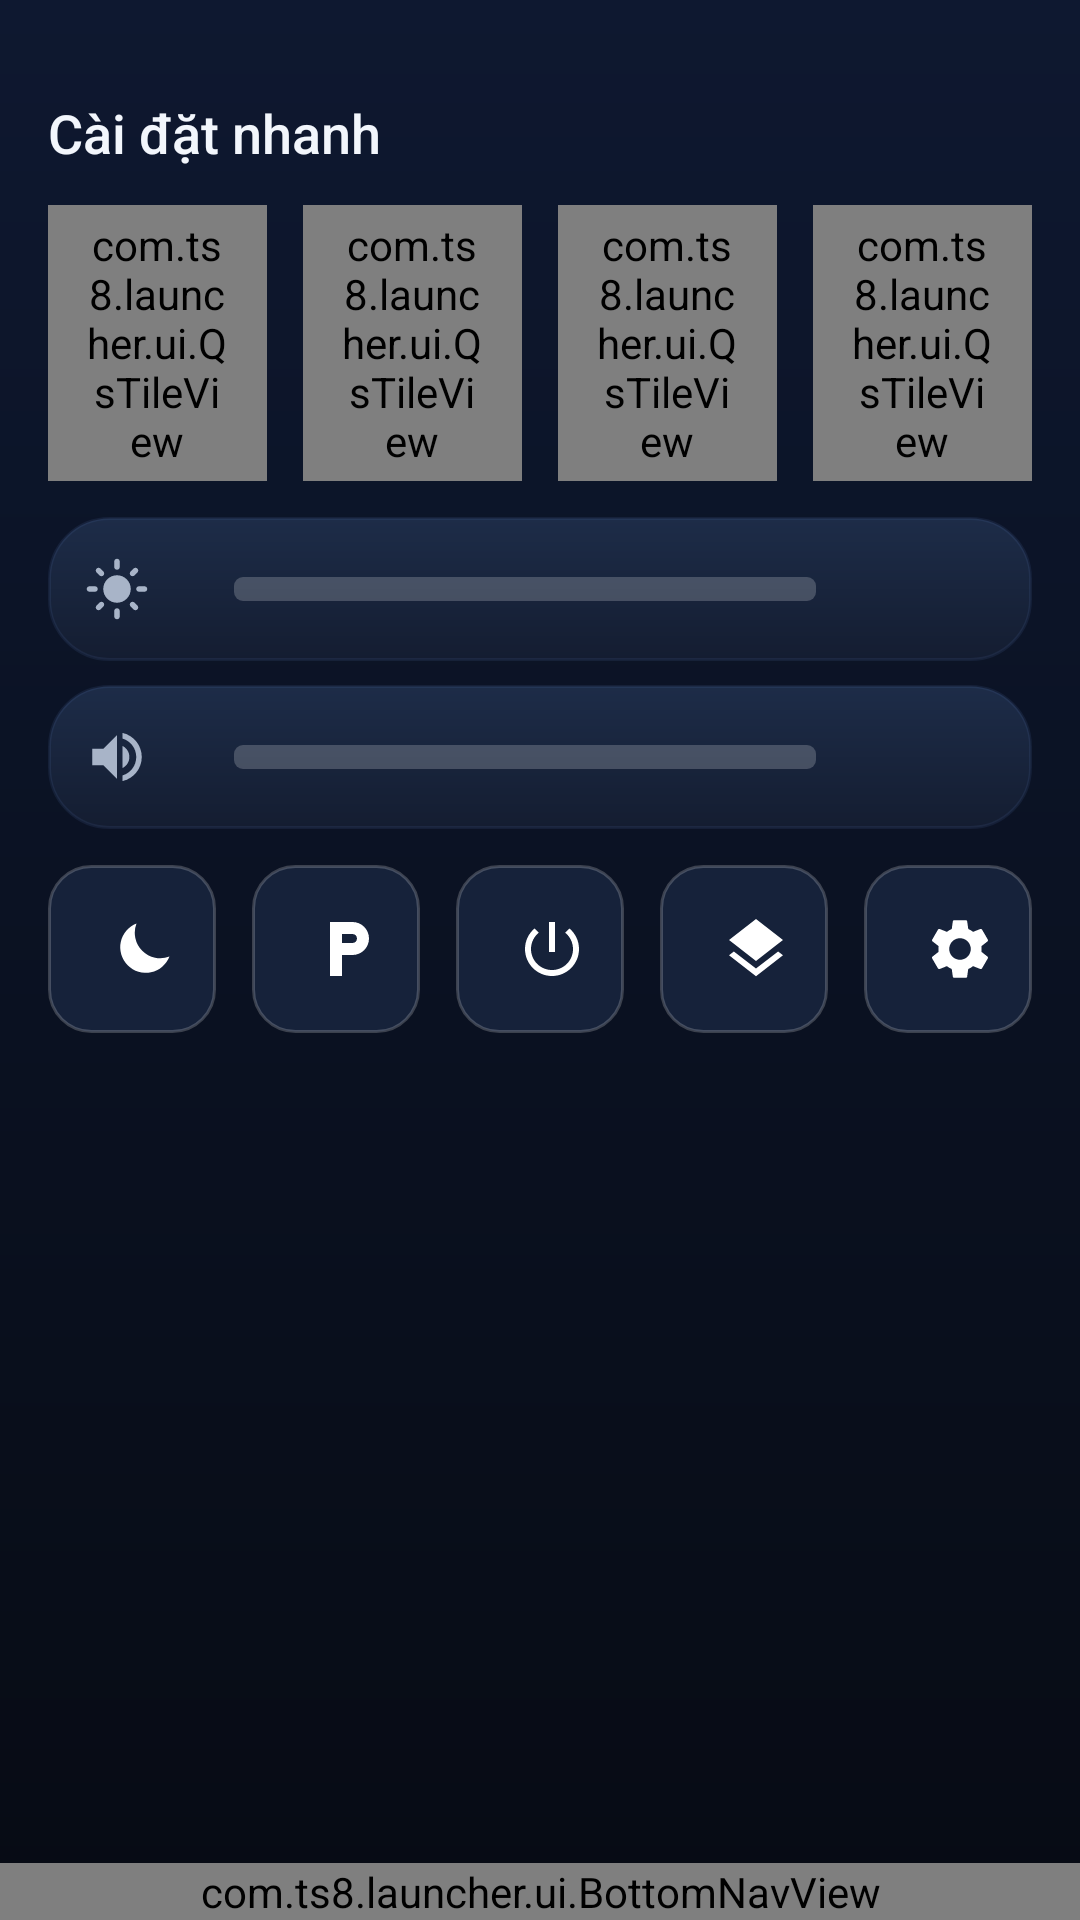

Screen size 1080×1920. Icon name, then its box in pixels as (x1, y1, x2, y2):
Âm lượng: (92, 733, 142, 781)
Độ sáng: (86, 559, 147, 619)
